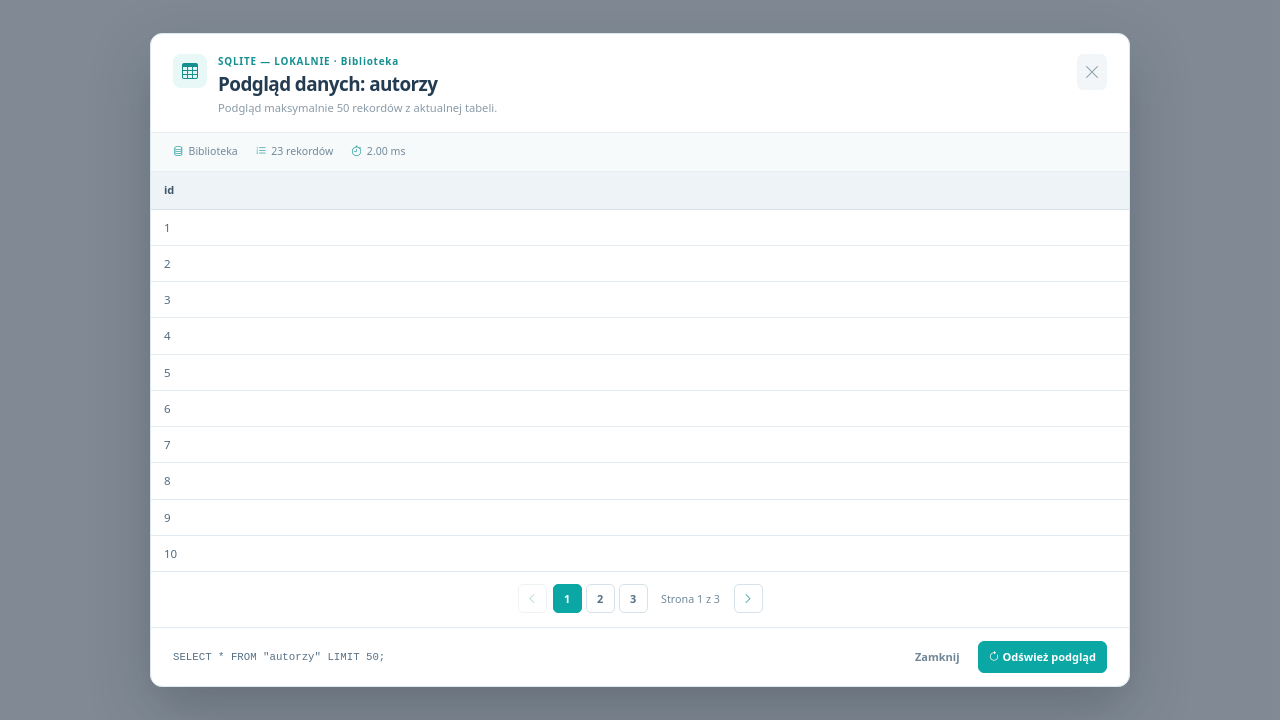
it: DataPreviewModal › paginates preview rows and changes the visible page
Expected: the text "Strona 1 z 3" is shown, [661,592,720,606]
Expected: the cell "1" is shown, [151,209,1129,245]
Click the button named "Następna strona" at (748, 599), box [734,584,762,613]
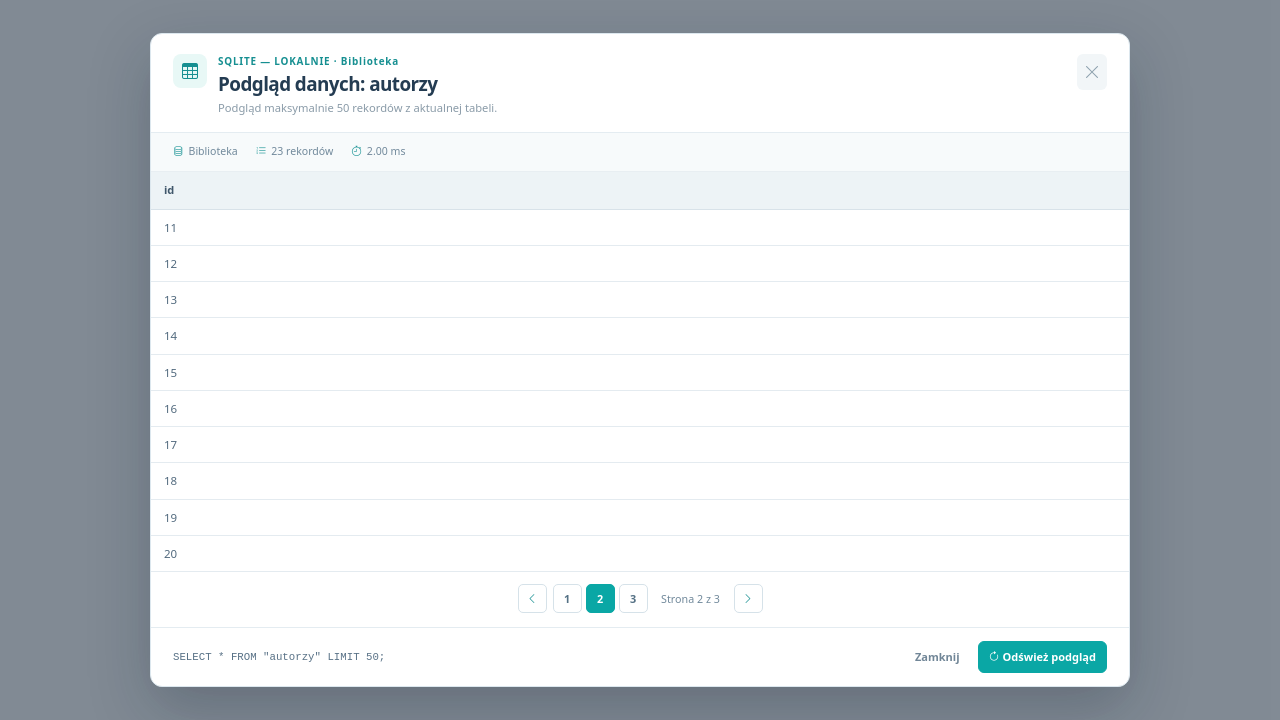
Now the text "Strona 2 z 3" is shown, box [661,592,720,606]
Now the cell "11" is shown, box [151,209,1129,245]
